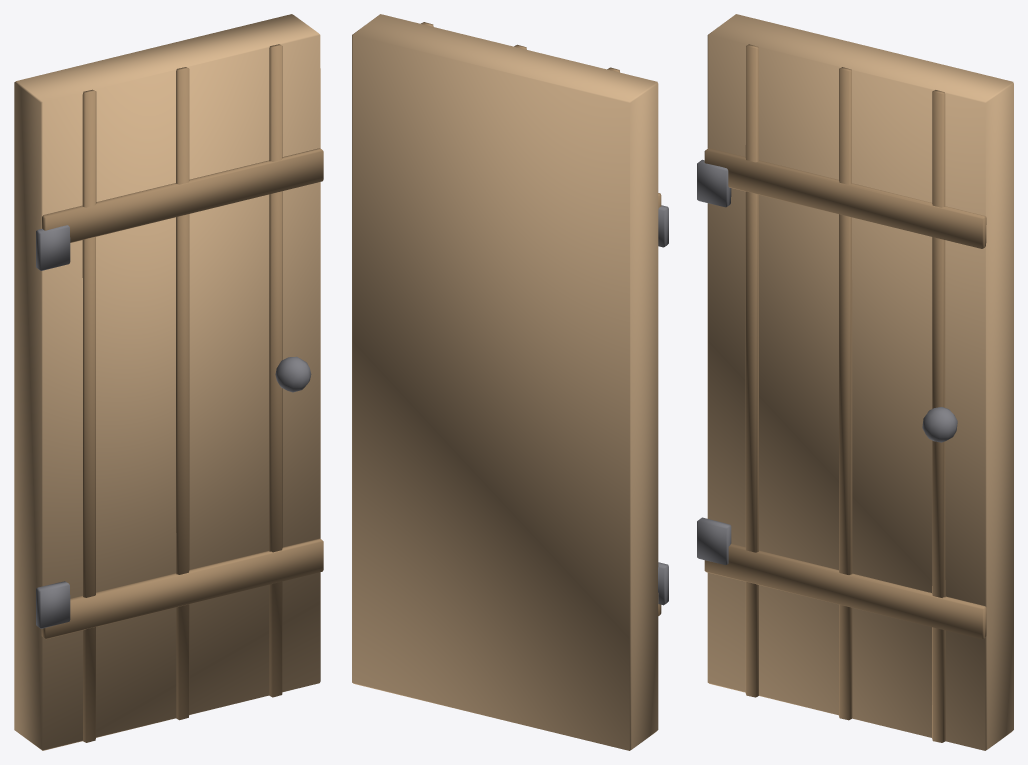
File: struct_door.glb
The picture shows the model from 3 angles, left to right: view 1: azimuth 30°, elevation 25°; view 2: azimuth 150°, elevation 25°; view 3: azimuth 330°, elevation 25°; orthographic projection.
Visible parts, largest first — view 1: struct_door; view 2: struct_door; view 3: struct_door.
Boxes of the visible parts, x1,y1,x2,y2 form: struct_door: (14,14,323,750); struct_door: (352,14,668,750); struct_door: (697,14,1013,750).
Bounding box in the file's own units: 0.92 × 2 × 0.2584.
